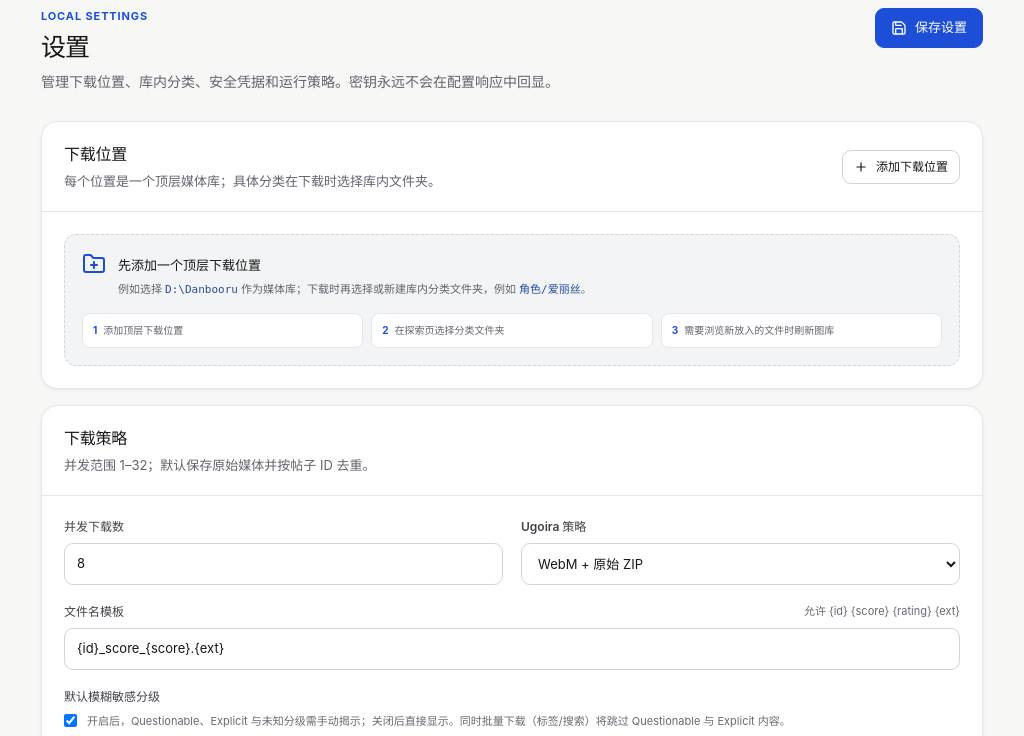
SettingsView media root mapping › uses a guided download-location flow and explains library subfolders
The width and height of the screenshot is (1024, 736).
Check: the text "先添加一个顶层下载位置" is shown, box [118, 258, 261, 274]
Check: the text "例如选择 D:\\Danbooru 作为媒体库；下载时再选择或新建库内分类文件夹，例如 角色/爱丽丝。" is shown, box [118, 282, 592, 296]
Click the button "添加下载位置" at (901, 167), box [842, 150, 960, 184]
(page scrolled)
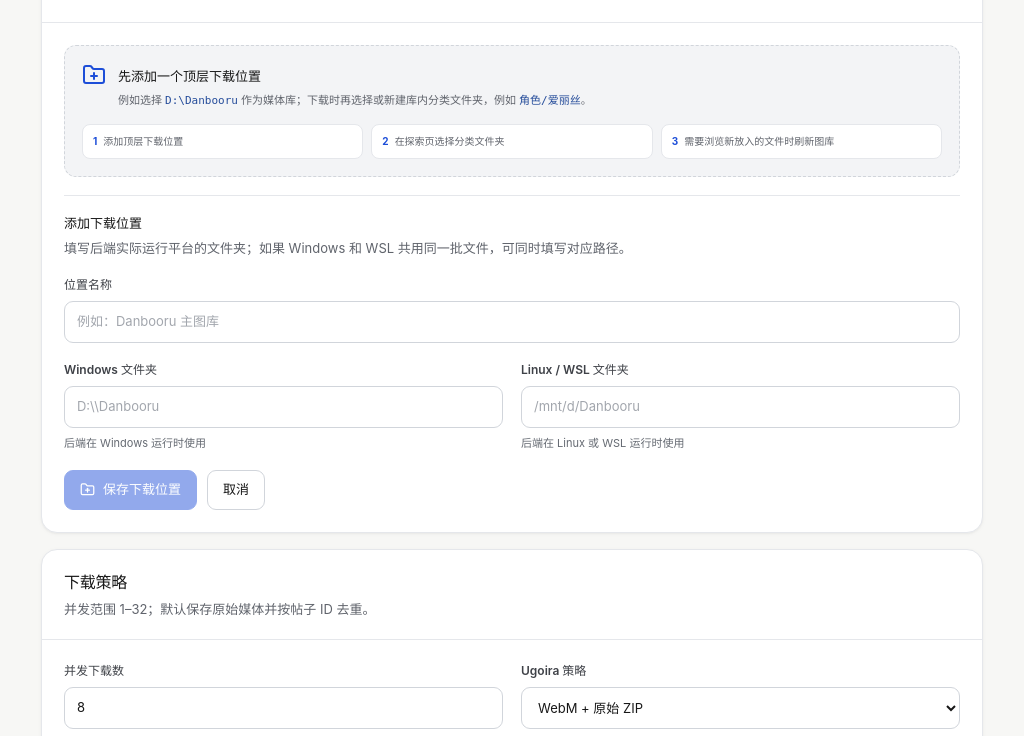
Check: the field labelled "位置名称" is shown, box [64, 301, 960, 343]
Check: the field labelled "Windows 文件夹" is shown, box [64, 386, 503, 428]
Check: the field labelled "Linux / WSL 文件夹" is shown, box [521, 386, 960, 428]
